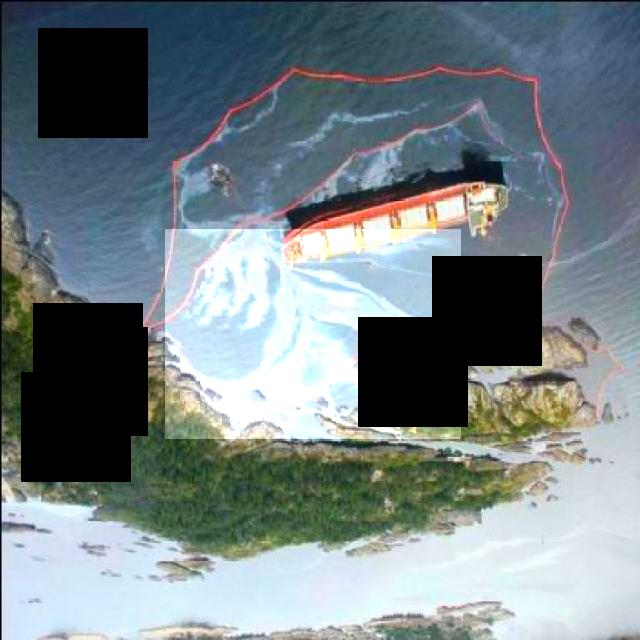oil spill: (166, 229, 461, 439)
